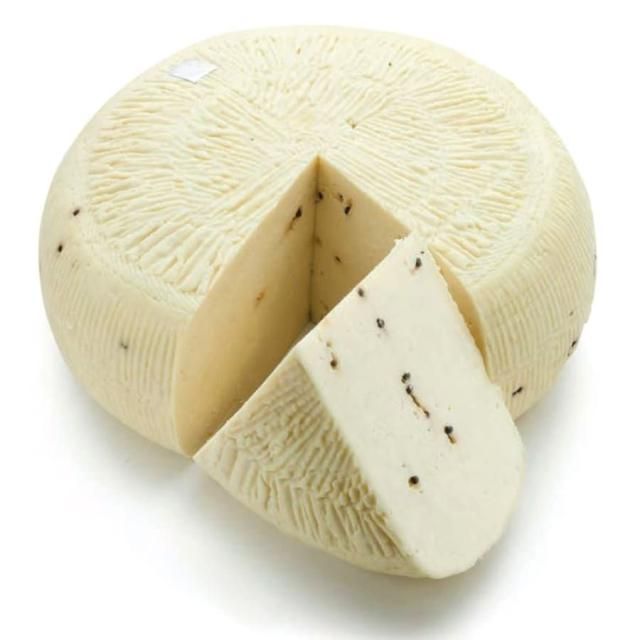Cheese: (50, 20, 600, 503), (183, 215, 528, 602)
